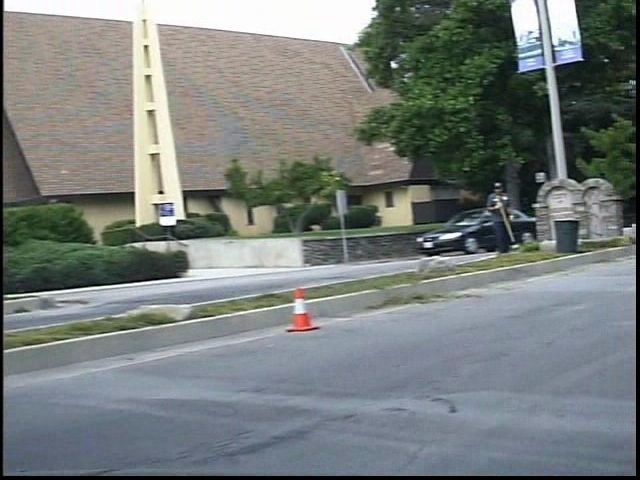person: (497, 175, 531, 256)
